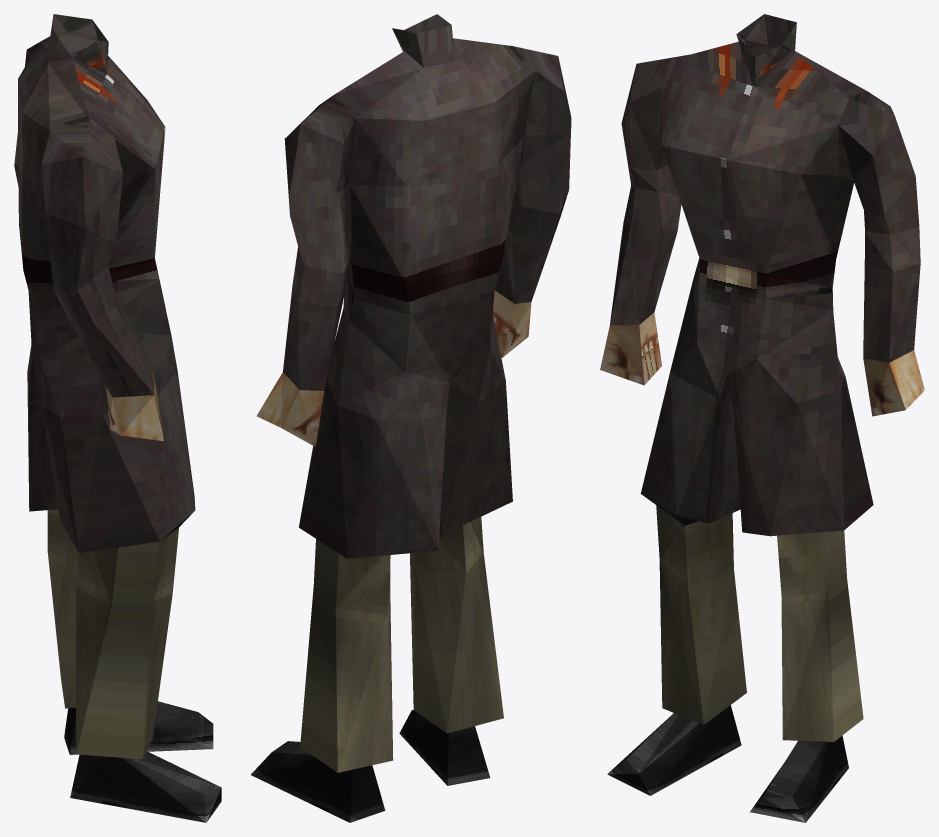
The model's file is primary_10.glb.
3 renders of one model, left to right at view 1: azimuth 30°, elevation 25°; view 2: azimuth 150°, elevation 25°; view 3: azimuth 270°, elevation 25°, orthographic. The views are drawn at different scales.
Visible parts, largest first — view 1: Object; view 2: Object; view 3: Object.
Boxes of the visible parts, x1,y1,x2,y2 form: Object: (14, 14, 221, 822); Object: (251, 14, 571, 822); Object: (600, 14, 924, 822).
Bounding box in the file's own units: 0.5817 × 1.8 × 0.7238.
Materials: 77 (77 with a texture image).
